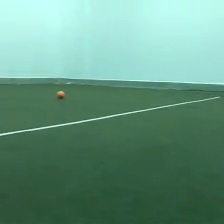ball: (55, 88, 66, 99)
